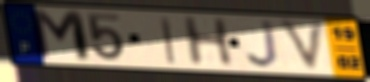5: (83, 12, 127, 64)
H: (179, 15, 237, 68)
I: (158, 15, 178, 65)
J: (245, 19, 282, 70)
M: (28, 7, 95, 64)
V: (276, 18, 329, 75)
